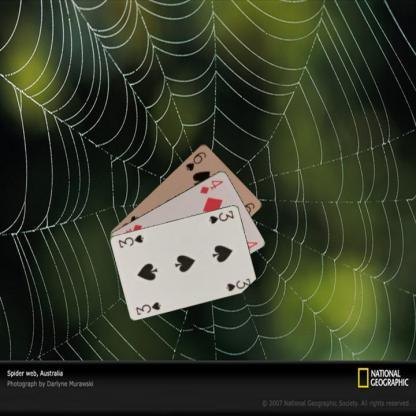3s: (206, 207, 235, 225), (134, 299, 162, 316)
4d: (197, 178, 225, 196)
6s: (183, 149, 208, 172)
